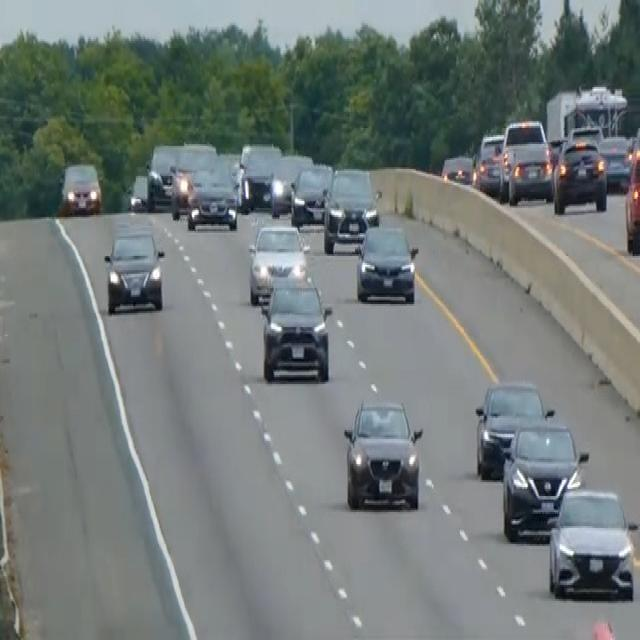car: (501, 412, 588, 540), (547, 485, 637, 601), (474, 377, 546, 478), (103, 226, 165, 314), (355, 220, 418, 304), (247, 220, 309, 304), (322, 165, 380, 252), (553, 135, 608, 213), (169, 140, 217, 218), (186, 160, 238, 231), (239, 140, 281, 210), (269, 151, 313, 217), (290, 160, 332, 228), (146, 140, 182, 208), (60, 160, 102, 215), (597, 134, 632, 190), (475, 132, 504, 194), (623, 150, 639, 254), (440, 151, 474, 185), (127, 169, 150, 211), (567, 121, 604, 147)
jeep: (342, 396, 424, 511), (498, 116, 553, 204)
lorry: (259, 272, 333, 382)
truck: (545, 82, 629, 146)
